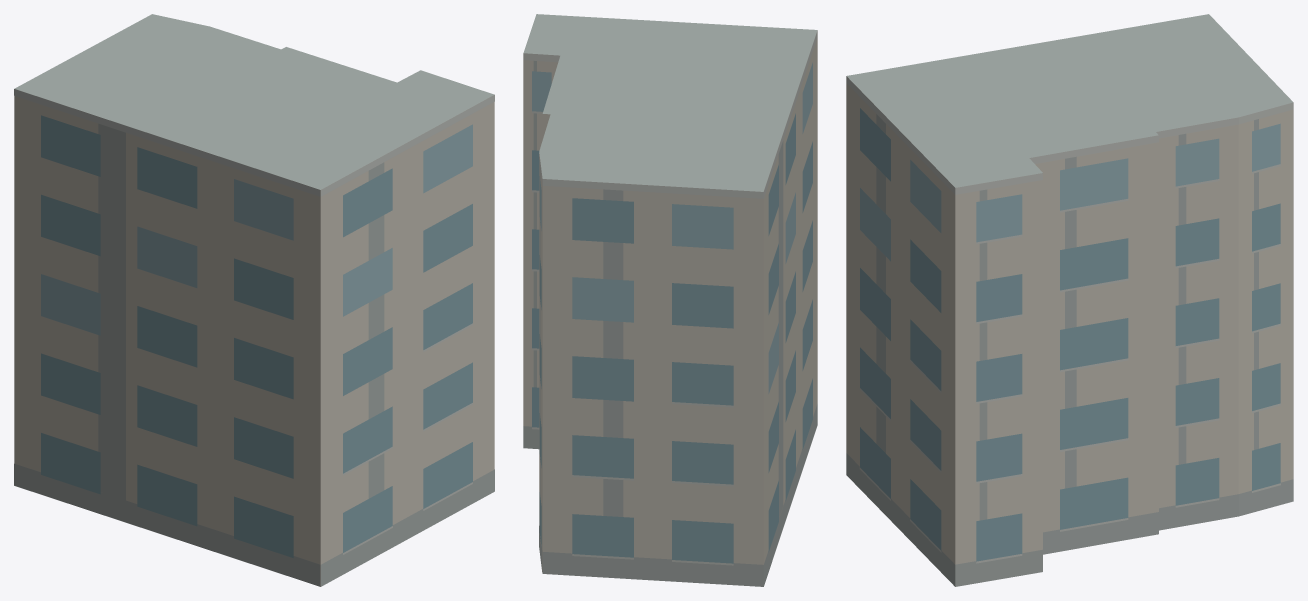
Rendered from survey-upis-32968632.glb.
The picture shows the model from 3 angles, left to right: view 1: azimuth 30°, elevation 25°; view 2: azimuth 150°, elevation 25°; view 3: azimuth 270°, elevation 25°; orthographic projection.
Visible parts, largest first — view 1: survey-upis-32968632.tmp; view 2: survey-upis-32968632.tmp; view 3: survey-upis-32968632.tmp.
Boxes of the visible parts, x1,y1,x2,y2 form: survey-upis-32968632.tmp: (14,14,494,586); survey-upis-32968632.tmp: (523,14,817,586); survey-upis-32968632.tmp: (846,14,1293,586).
Size of the model in its own units: 13 by 13.9 by 14.13.
